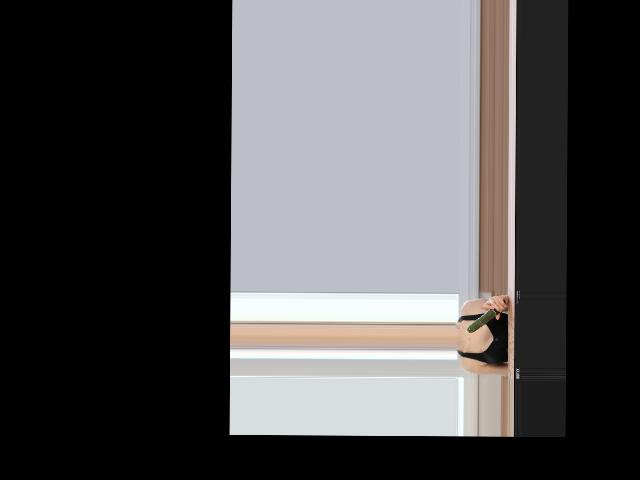cucumber: (465, 299, 506, 333)
